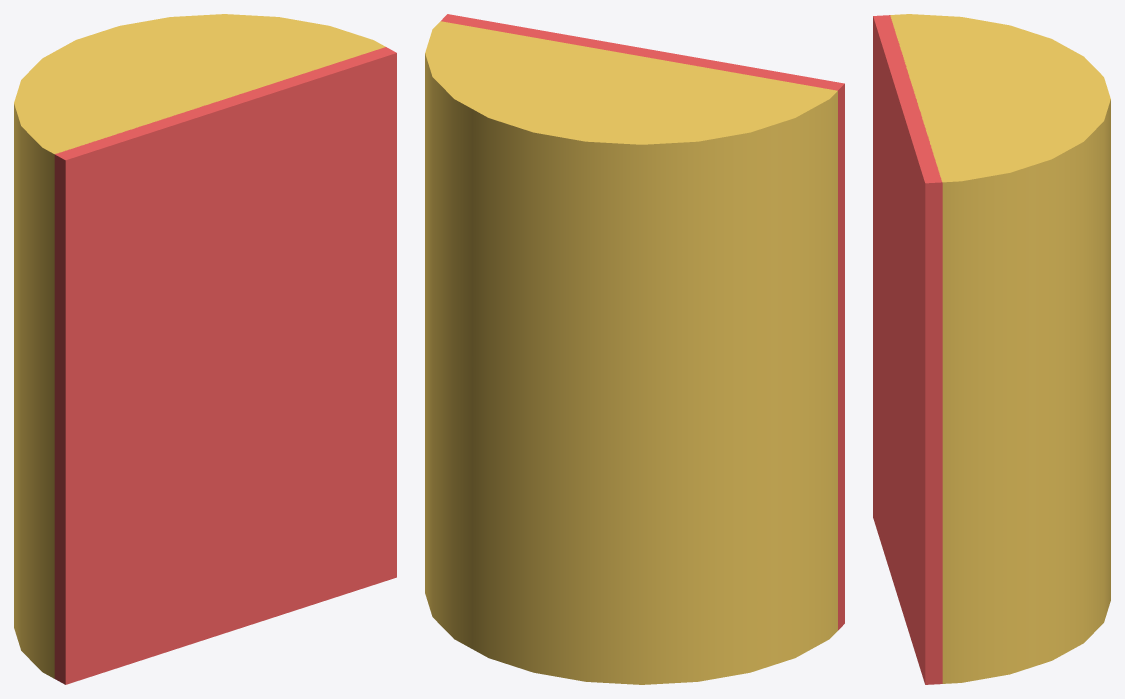
Rendered from Cil_Perpendicular_BaseA.fbx.
3 views of the same model, side by side, from view 1: azimuth 30°, elevation 25°; view 2: azimuth 150°, elevation 25°; view 3: azimuth 270°, elevation 25° (orthographic). The views are drawn at different scales.
Visible parts, largest first — view 1: Intersection, Difference1; view 2: Difference1, Intersection; view 3: Difference1, Intersection.
Part boxes in pixels (x1,y1,x2,y2): Intersection: (54,47,396,684); Difference1: (14,14,385,678); Difference1: (425,21,837,684); Intersection: (441,14,844,630); Difference1: (890,14,1110,683); Intersection: (873,15,942,684).
Size of the model in its own units: 99.5 by 137 by 59.03.
